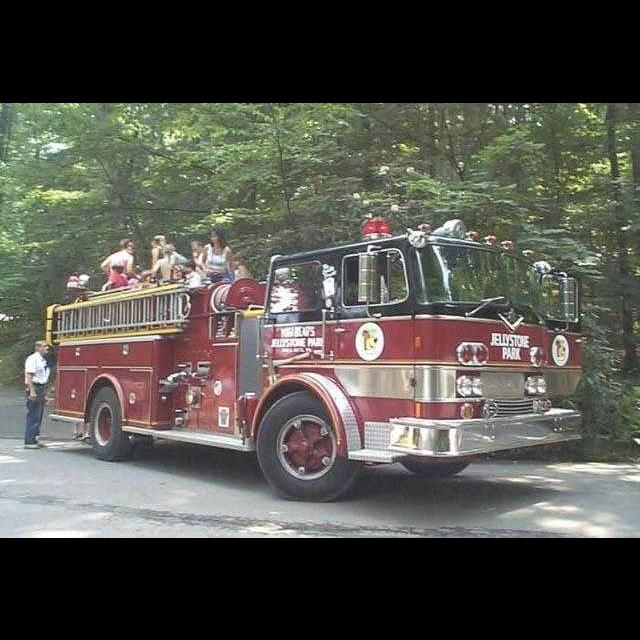emergency: (44, 218, 586, 502)
